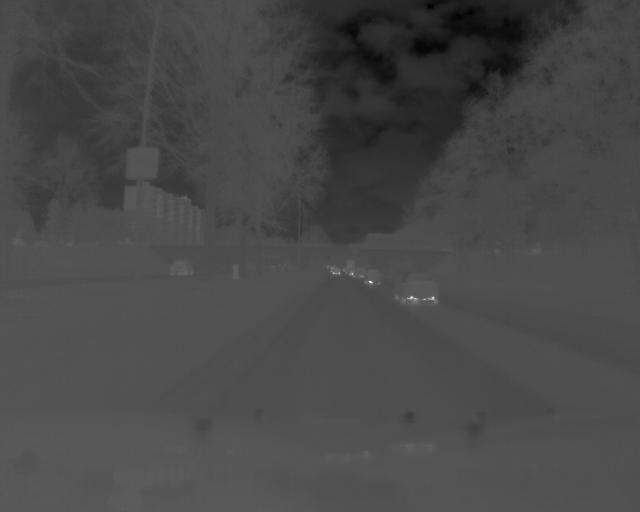car: (394, 272, 439, 309), (363, 266, 382, 288)
